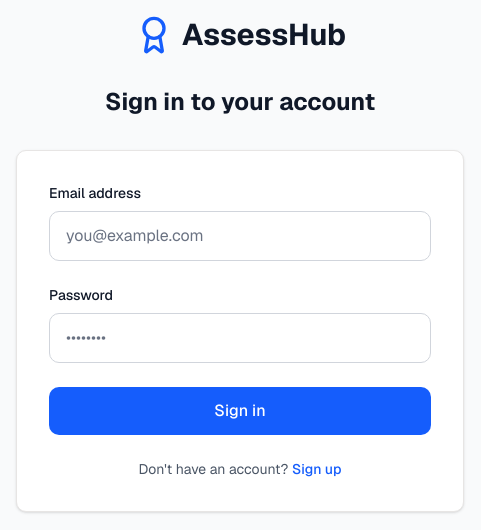
Test: LoginPage › disables submit button during loading
In the field labelled "Email address": (240, 236) x1=49 y1=210 x2=431 y2=260, type "test@example.com"
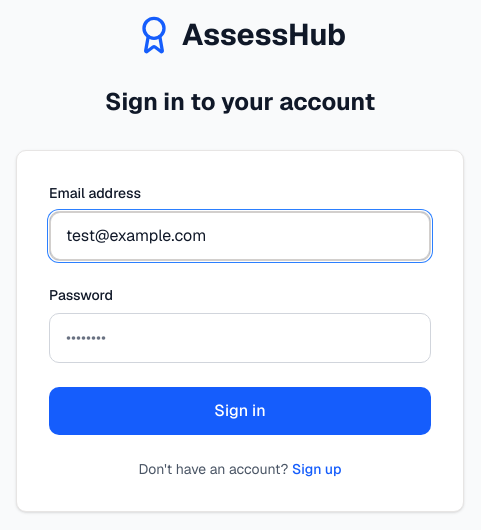
In the password field labelled "Password": (240, 338) x1=49 y1=312 x2=431 y2=362, type "password123"
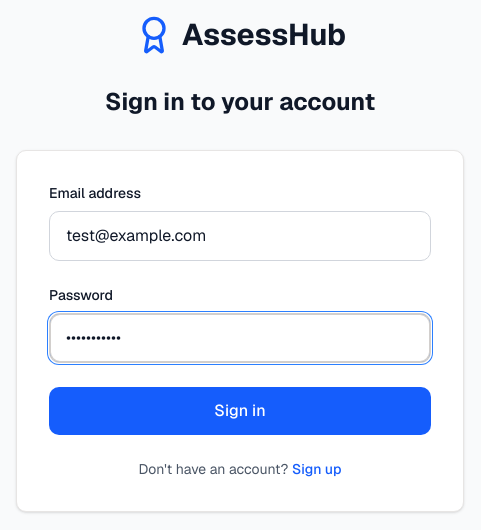
Click the button "Sign in": (240, 410) x1=49 y1=386 x2=431 y2=434
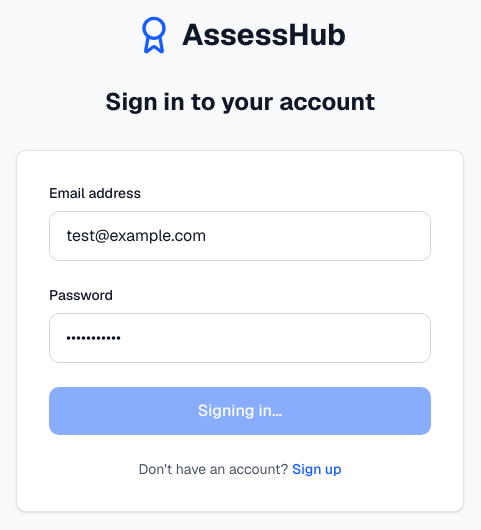
Now the button named "sign in" is disabled, box x1=49 y1=386 x2=431 y2=434
